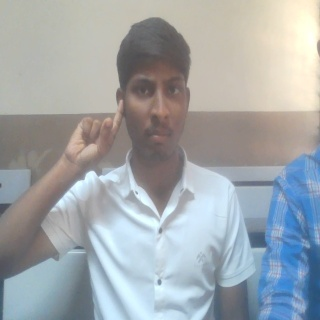Deaf: (60, 97, 125, 178)
Face: (114, 15, 193, 165)
